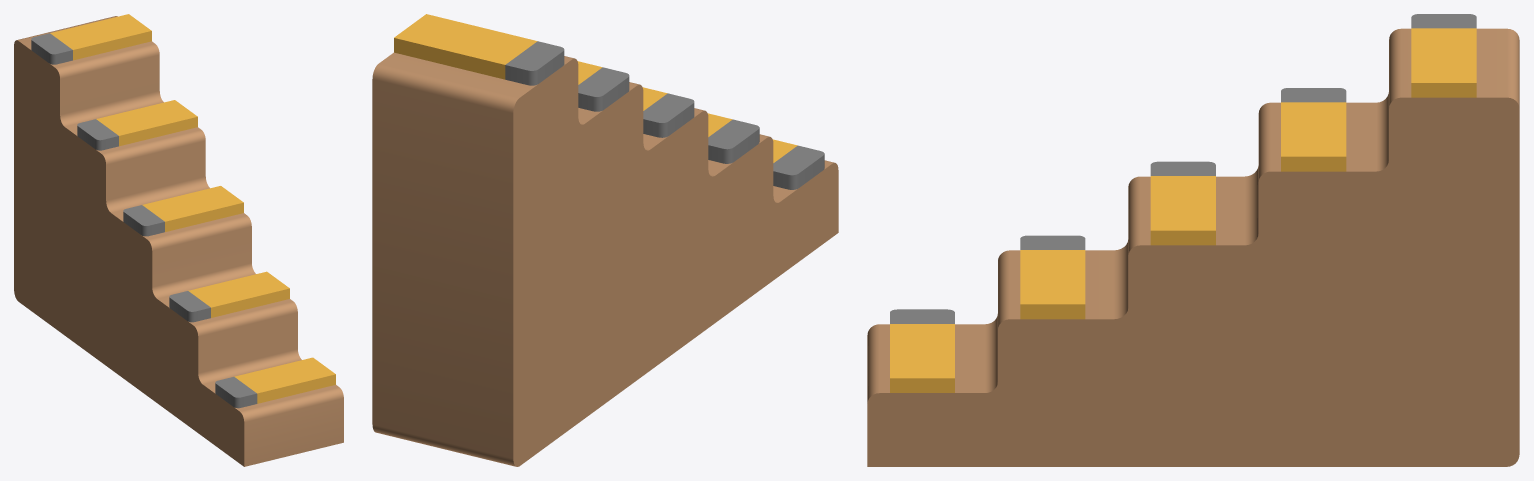
The model's file is Fans Tribune A.fbx.
3 renders of one model, left to right at view 1: azimuth 30°, elevation 25°; view 2: azimuth 150°, elevation 25°; view 3: azimuth 270°, elevation 25°, orthographic. The views are drawn at different scales.
Visible parts, largest first — view 1: Fans Tribune A; view 2: Fans Tribune A; view 3: Fans Tribune A.
Boxes of the visible parts, x1,y1,x2,y2 form: Fans Tribune A: (14, 14, 343, 466); Fans Tribune A: (372, 14, 838, 466); Fans Tribune A: (867, 14, 1519, 466).
Size of the model in its own units: 136 by 354 by 544.
